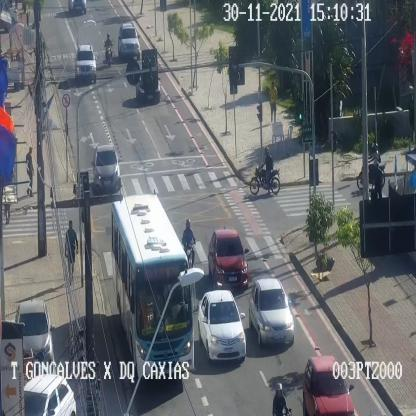bus: (112, 194, 193, 377)
car: (198, 289, 246, 360), (302, 356, 354, 416), (249, 278, 293, 343), (16, 300, 52, 371), (208, 229, 248, 286), (23, 374, 76, 416), (93, 145, 120, 190), (136, 68, 160, 102), (118, 23, 140, 60), (75, 45, 96, 82)
motorbike: (250, 147, 280, 194), (357, 143, 385, 189), (182, 218, 196, 274), (272, 382, 292, 415), (104, 32, 113, 66)
person: (64, 220, 78, 284), (25, 146, 34, 197), (268, 81, 278, 122), (373, 161, 383, 198)
